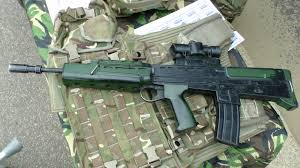gun: (7, 39, 297, 148)
